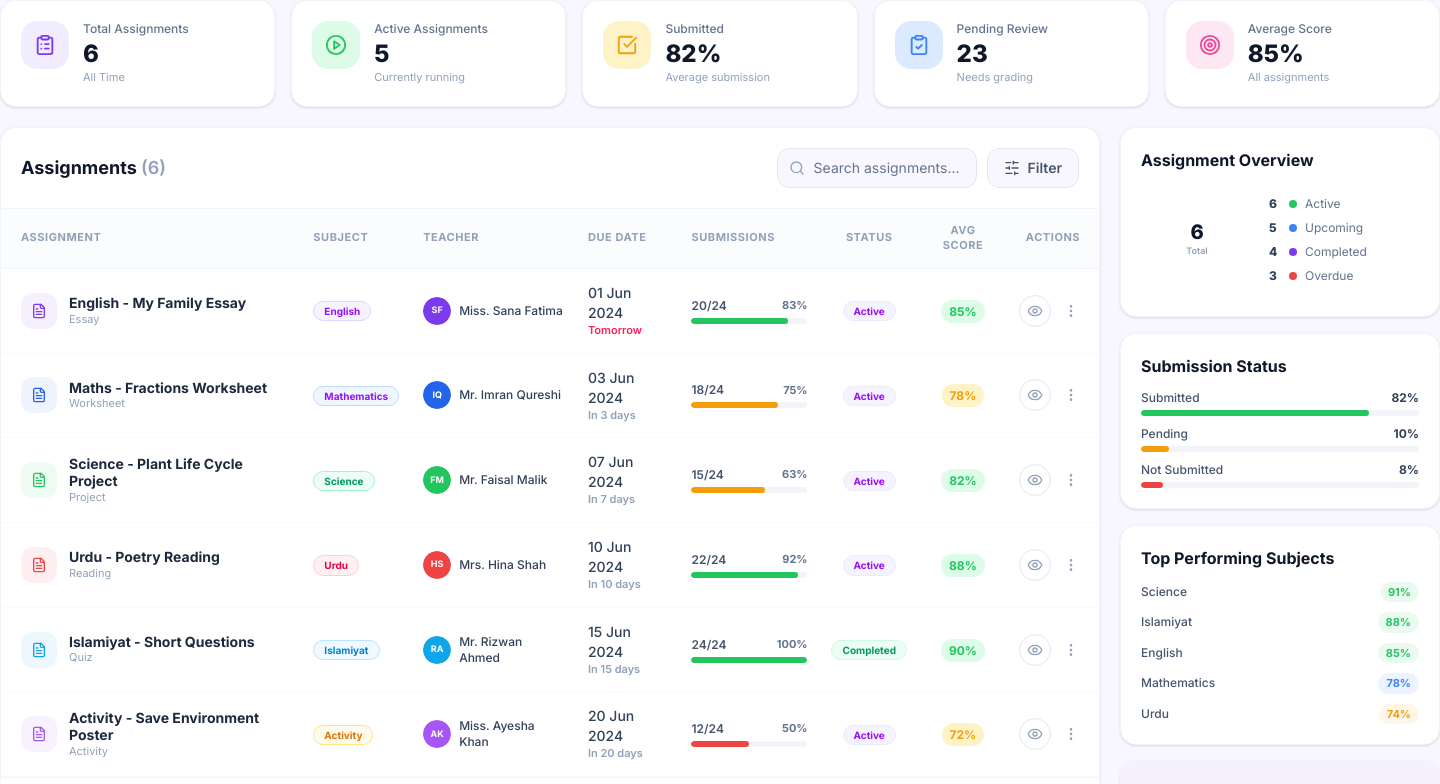
Test: AssignmentsPro › deletes an assignment after confirming in the delete dialog
The width and height of the screenshot is (1440, 784).
Click the button without text in the row of "English - My Family Essay": coordinates (1071, 311) [1055,295,1087,327]
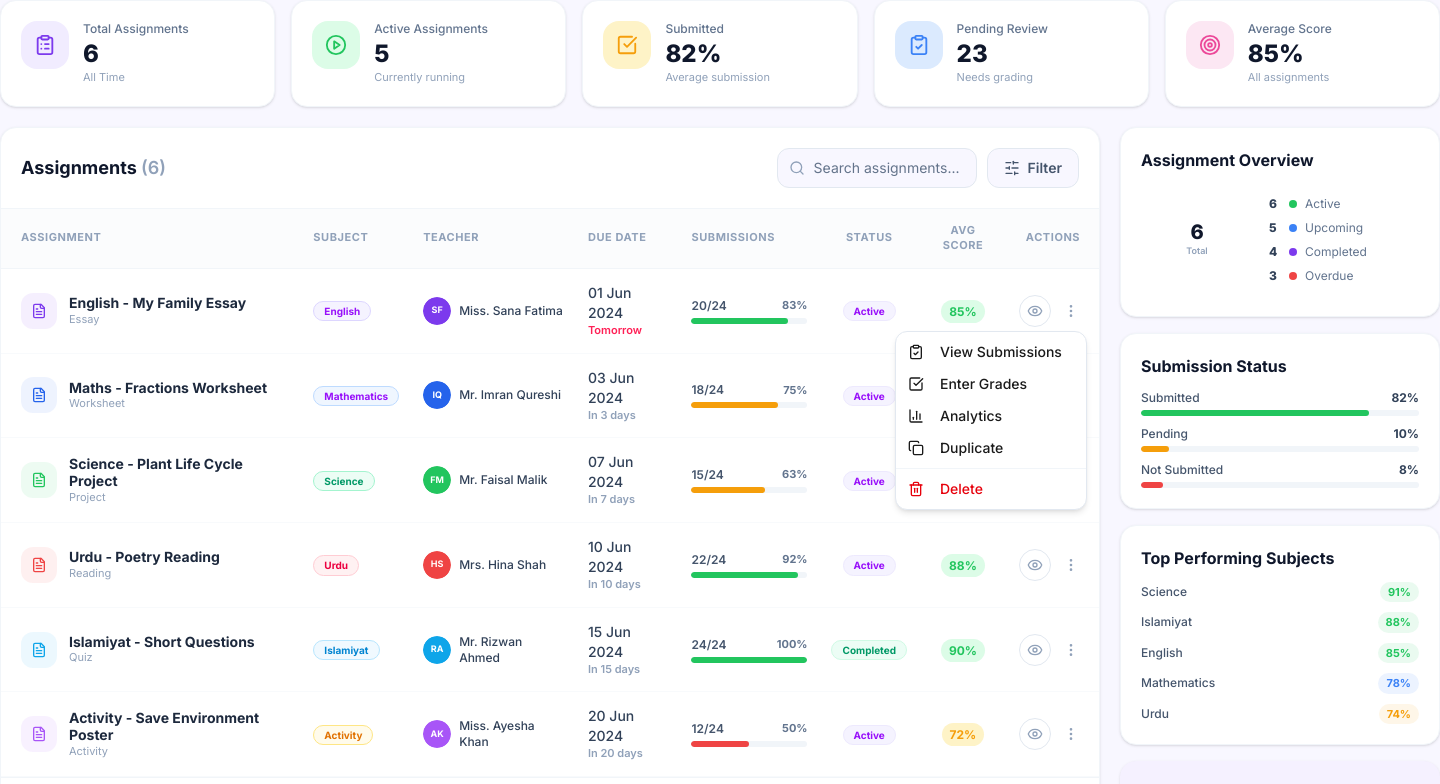
Click the menu item "Delete": coordinates (945, 488) [908,480,983,497]
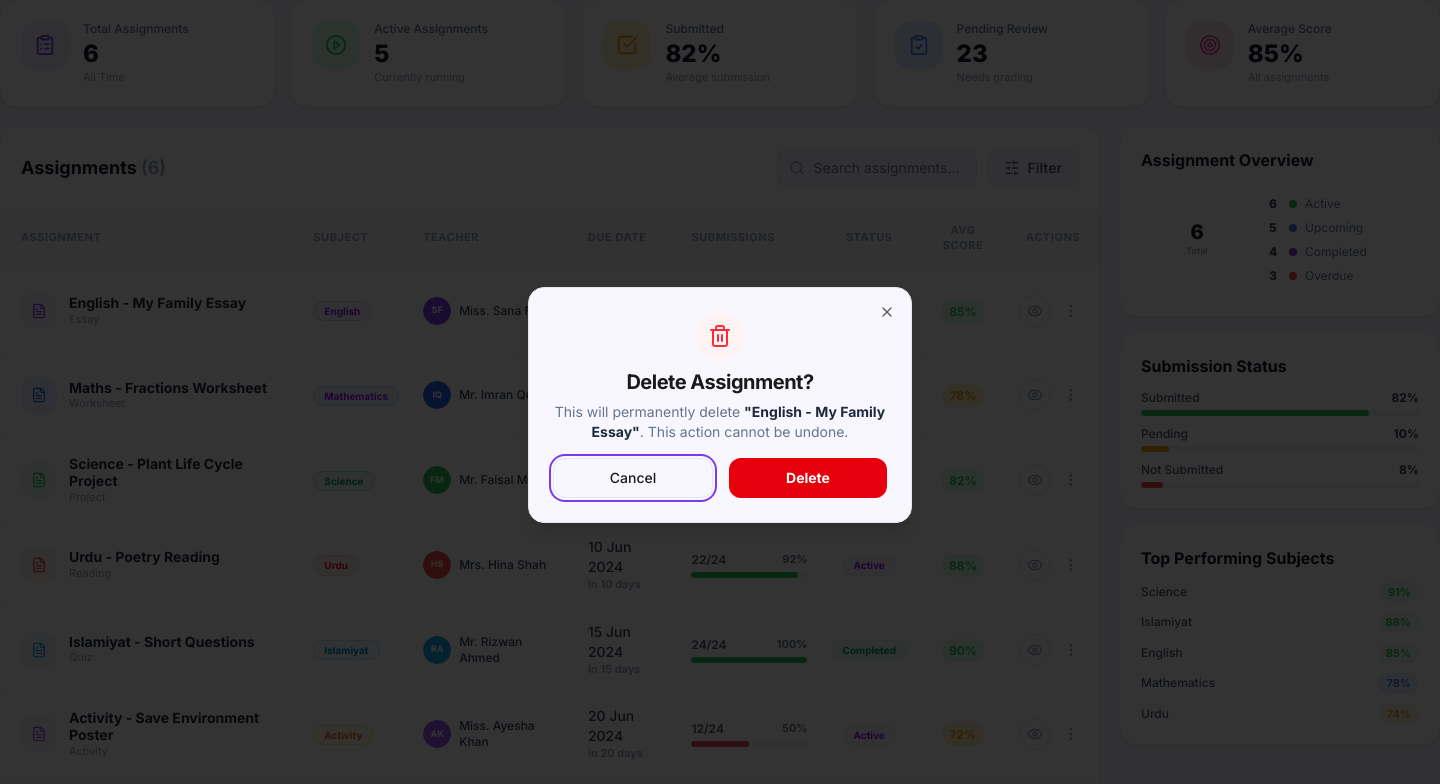
Check: the heading "Delete Assignment?" is shown, box [626,370,814,394]
Click the button "Delete": coordinates (808, 478) [729,458,887,498]
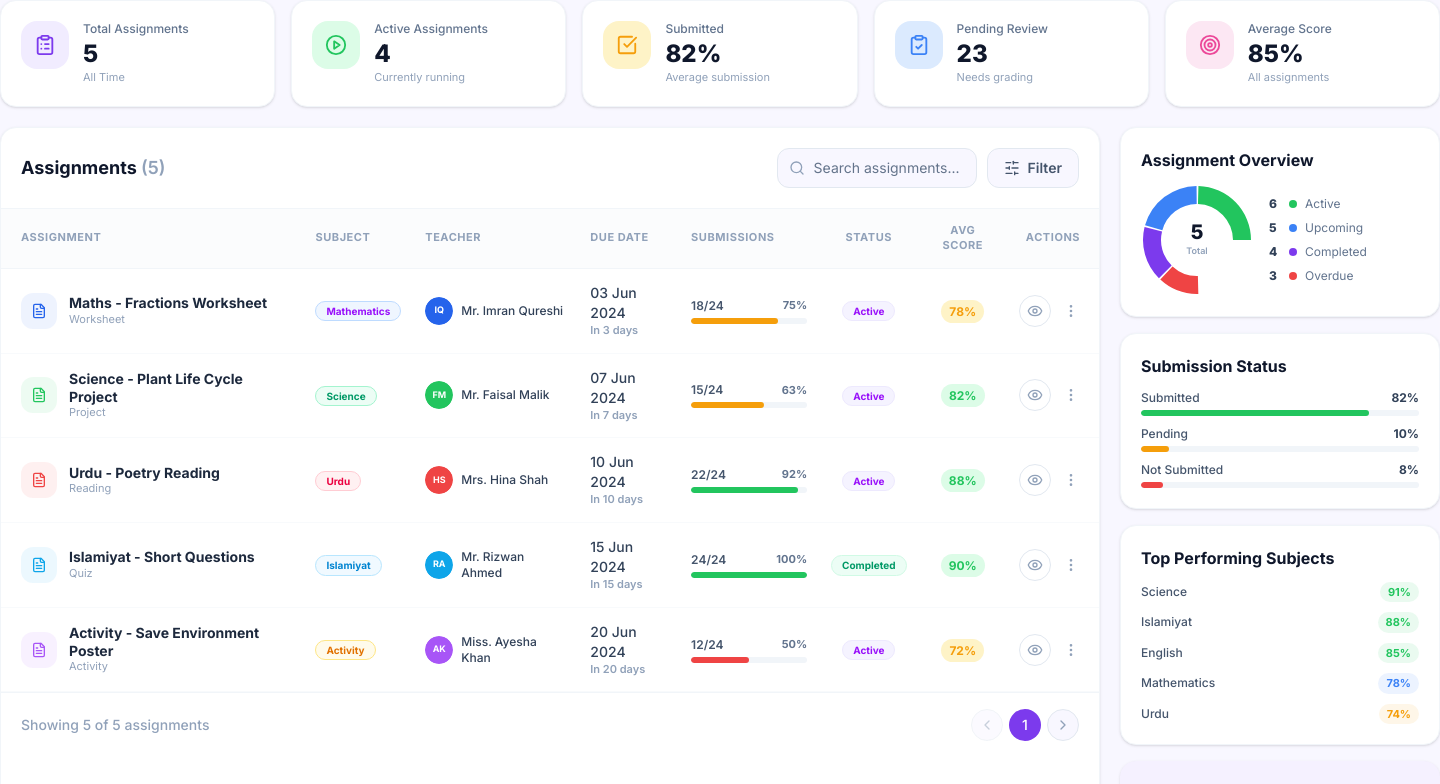
Check: the text "English - My Family Essay" is gone
